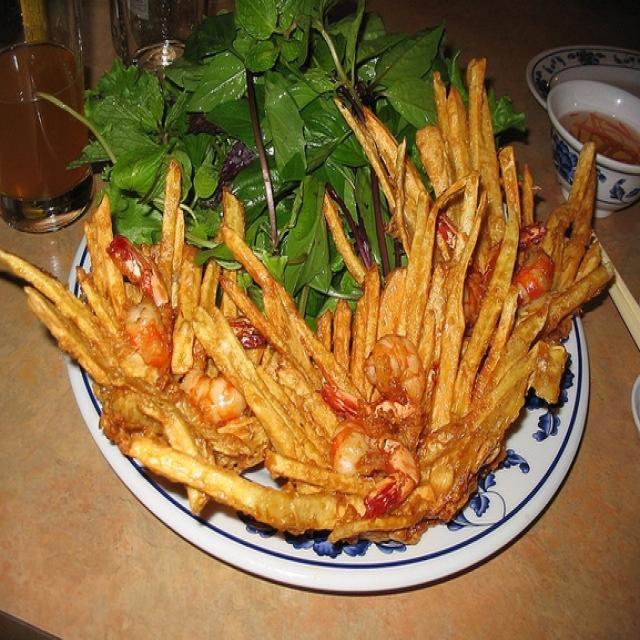炸货点心: (8, 8, 618, 610)
熟制海鲜: (8, 8, 618, 610)
